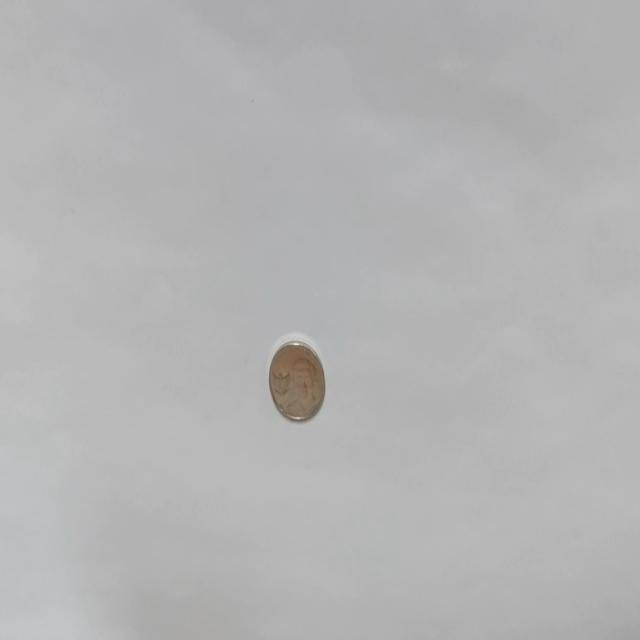seribu rupiah koin: (266, 335, 326, 423)
